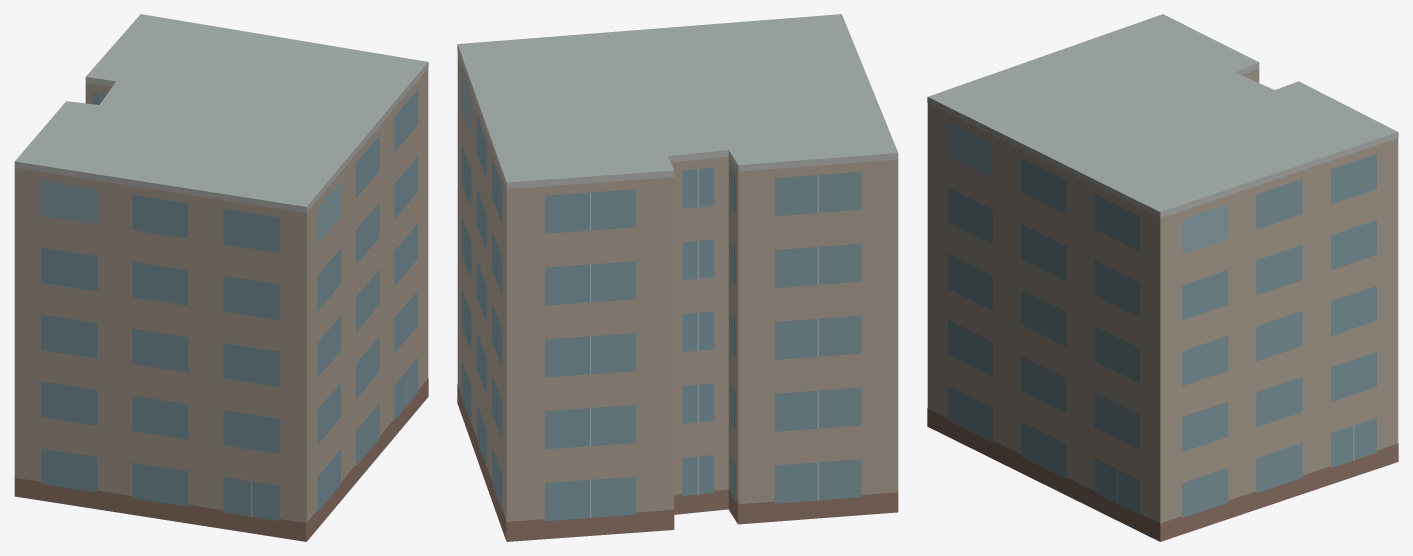
File: survey-upis-33034921.glb
3 views of the same model, side by side, from view 1: azimuth 30°, elevation 25°; view 2: azimuth 150°, elevation 25°; view 3: azimuth 270°, elevation 25° (orthographic). The views are drawn at different scales.
Visible parts, largest first — view 1: survey-upis-33034921.tmp; view 2: survey-upis-33034921.tmp; view 3: survey-upis-33034921.tmp.
Boxes of the visible parts, bbox=[...] form: survey-upis-33034921.tmp: bbox=[14, 14, 428, 541]; survey-upis-33034921.tmp: bbox=[457, 14, 898, 541]; survey-upis-33034921.tmp: bbox=[927, 14, 1398, 541].
Bounding box in the file's own units: 17.14 × 13.3 × 17.22.
